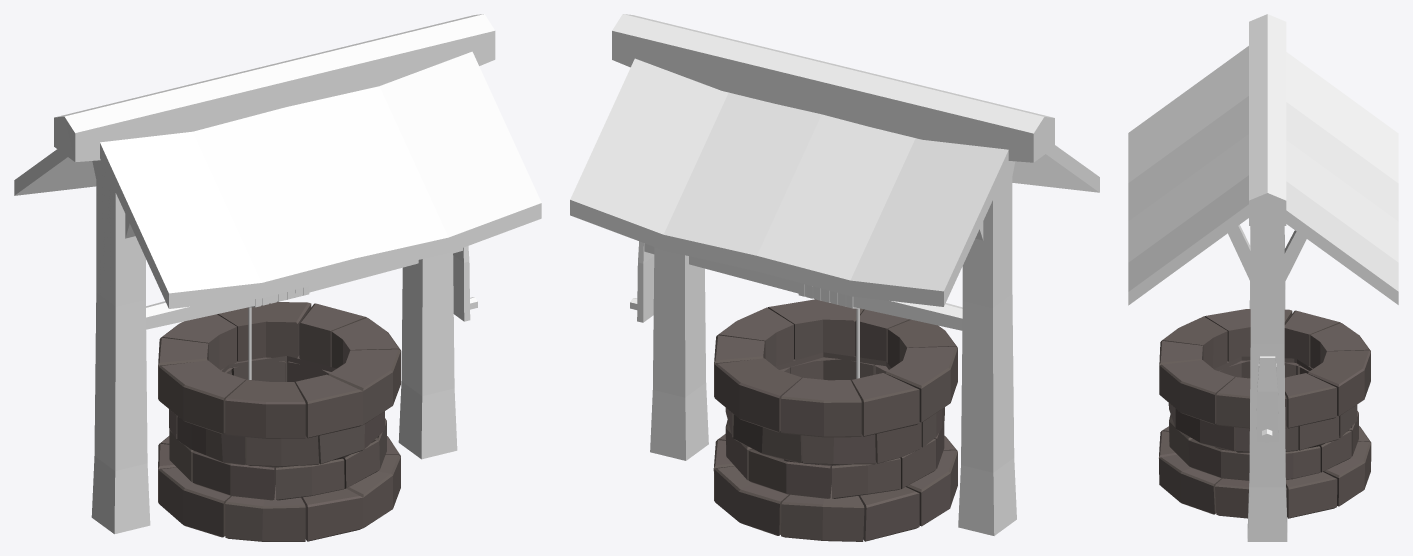
The model's file is FarmWell.fbx.
3 views of the same model, side by side, from view 1: azimuth 30°, elevation 25°; view 2: azimuth 150°, elevation 25°; view 3: azimuth 270°, elevation 25° (orthographic). The views are drawn at different scales.
Visible parts, largest first — view 1: FarmWell; view 2: FarmWell; view 3: FarmWell.
Boxes of the visible parts, <box> form: FarmWell: <box>14,14,541,541</box>; FarmWell: <box>570,14,1099,541</box>; FarmWell: <box>1128,14,1398,541</box>.
Bounding box in the file's own units: 3.89 × 3.79 × 2.49.
